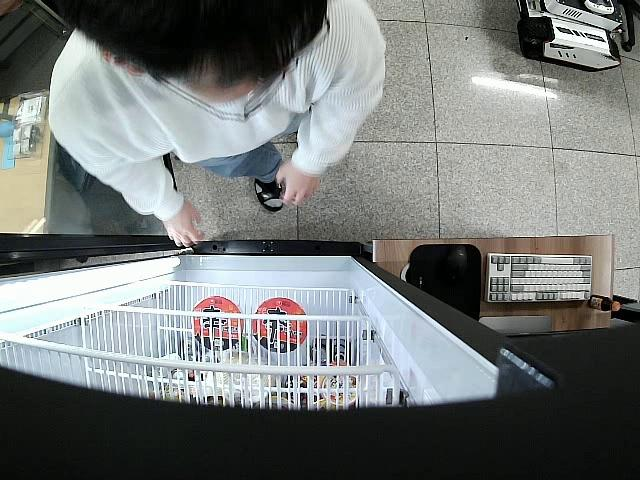00_hand: (277, 161, 321, 207), (163, 199, 205, 247)
